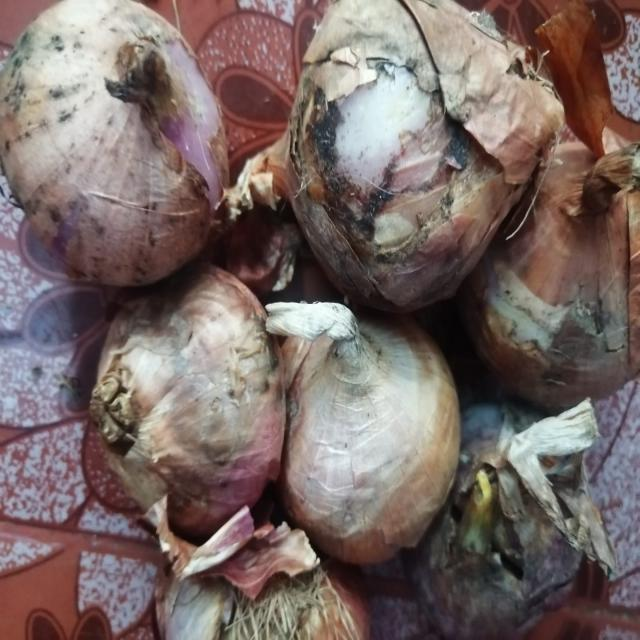rotten: (310, 74, 418, 240), (484, 252, 614, 372), (476, 454, 536, 572)
